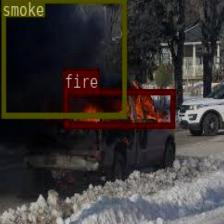fire: (63, 88, 174, 127)
smoke: (0, 0, 126, 117)
